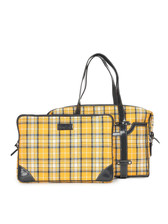bag: (12, 55, 159, 183)
